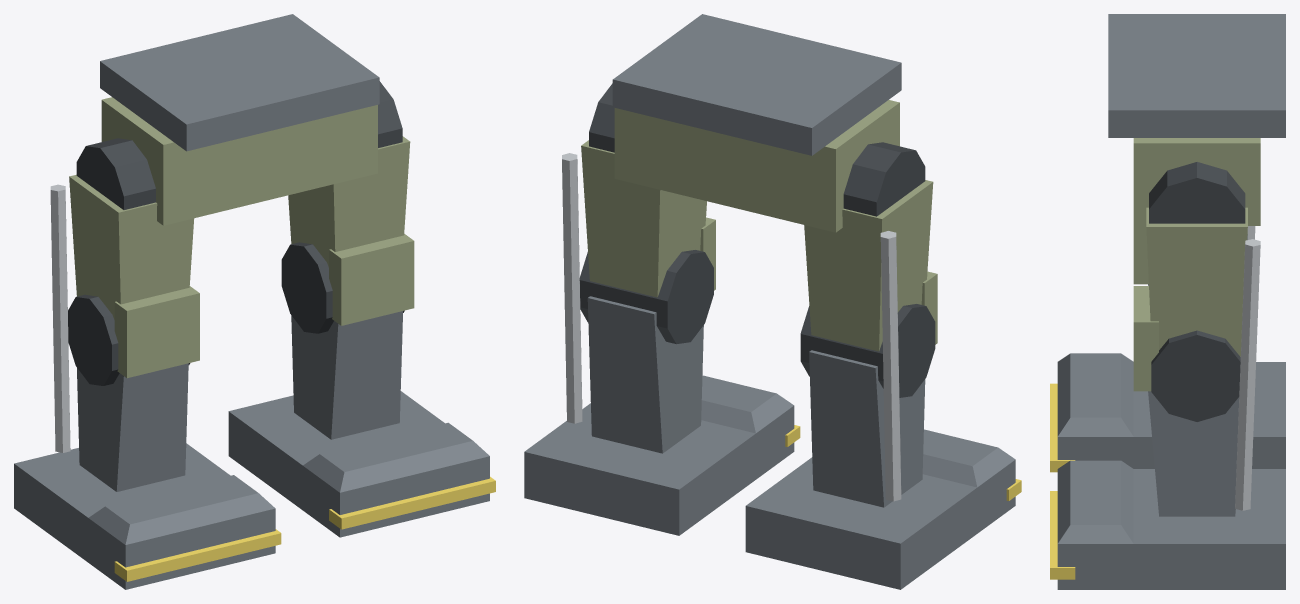
Rendered from mod-line-mech-legs-26807.glb.
3 renders of one model, left to right at view 1: azimuth 30°, elevation 25°; view 2: azimuth 150°, elevation 25°; view 3: azimuth 270°, elevation 25°, orthographic. The views are drawn at different scales.
Size of the model in its own units: 7.25 by 8.01 by 3.92.
